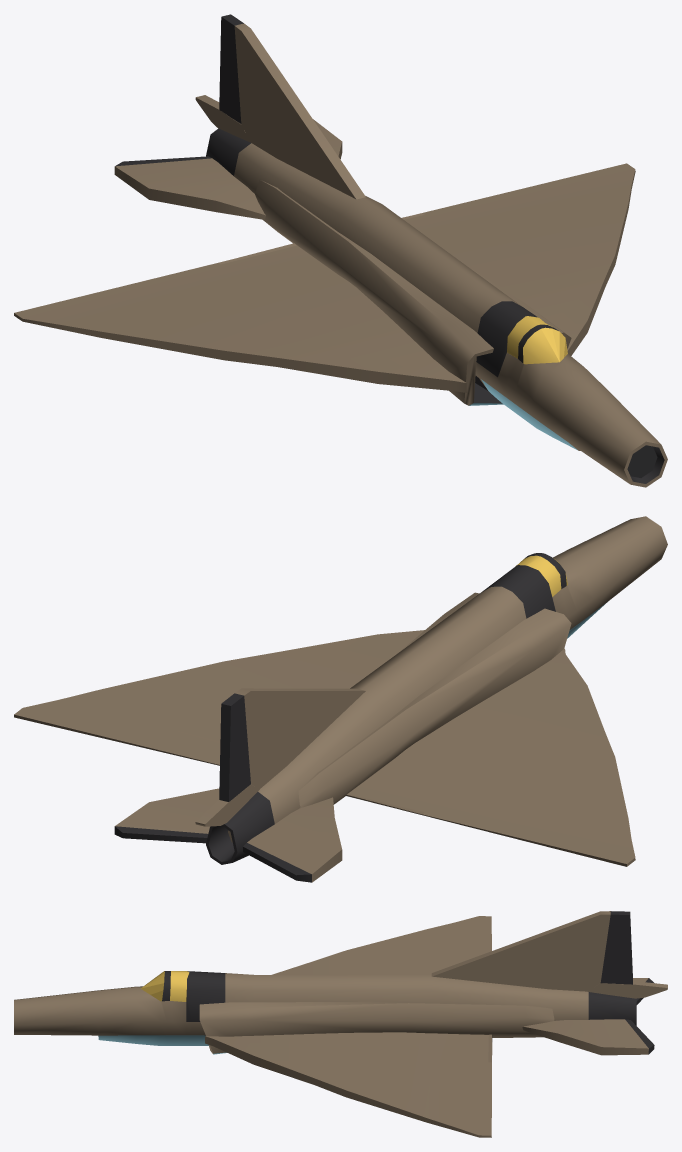
The model's file is Neski.glb.
3 renders of one model, top to bottom at view 1: azimuth 30°, elevation 25°; view 2: azimuth 150°, elevation 25°; view 3: azimuth 270°, elevation 25°, orthographic. The views are drawn at different scales.
Visible parts, largest first — view 1: Wings, Airframe, Intake, Rudder, BackWings, Rudder.001; view 2: Wings, Airframe, Intake, Rudder, BackWings, Rudder.001; view 3: Wings, Airframe, Intake, Rudder, BackWings, Rudder.001.
Boxes of the visible parts, x1,y1,x2,y2 form: Wings: (14, 163, 635, 392); Airframe: (206, 128, 667, 487); Intake: (255, 180, 571, 405); Rudder: (219, 14, 365, 199); BackWings: (114, 119, 342, 219); Rudder.001: (195, 95, 249, 141); Wings: (14, 630, 635, 866); Airframe: (206, 516, 667, 864); Intake: (298, 592, 571, 807); Rudder: (219, 688, 365, 801); BackWings: (114, 788, 342, 882); Rudder.001: (195, 784, 259, 826); Wings: (205, 916, 492, 1137); Airframe: (14, 971, 636, 1045); Intake: (199, 1001, 554, 1054); Rudder: (431, 911, 632, 991); BackWings: (522, 978, 654, 1055); Rudder.001: (588, 981, 667, 998).
Size of the model in its own units: 11.91 by 3.37 by 15.
